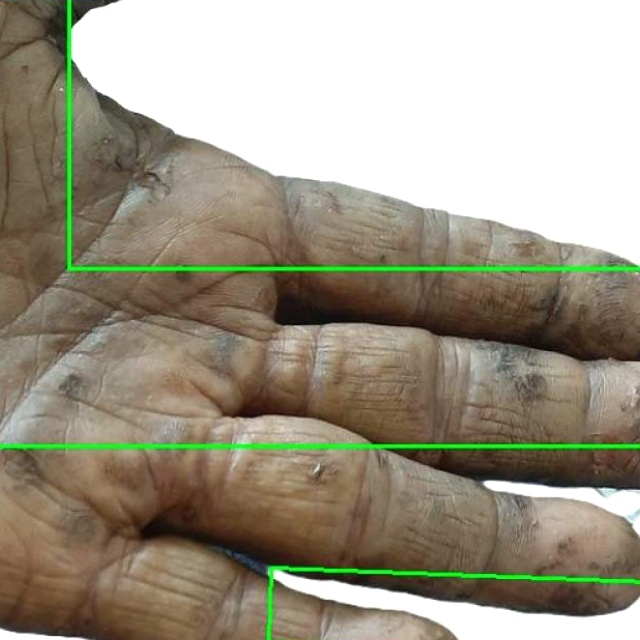Eczema: (0, 0, 639, 446), (69, 0, 639, 268), (267, 569, 639, 639)
